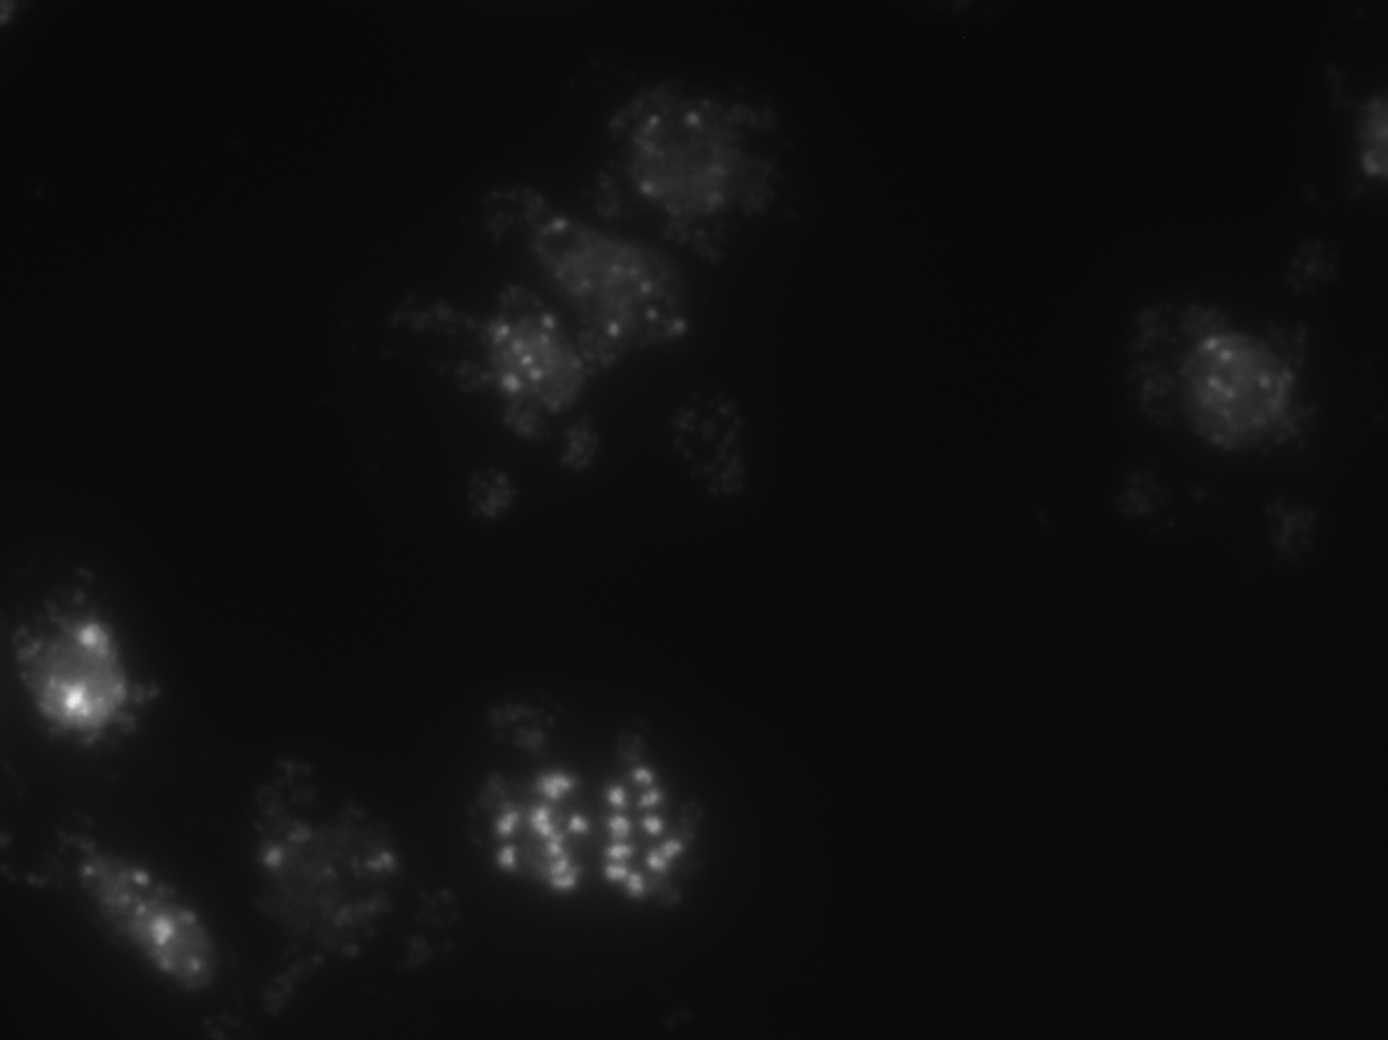Chromosomes: (477, 721, 717, 920)
Others: (336, 28, 821, 574), (1089, 243, 1349, 517), (36, 820, 254, 1018), (28, 525, 176, 808)
